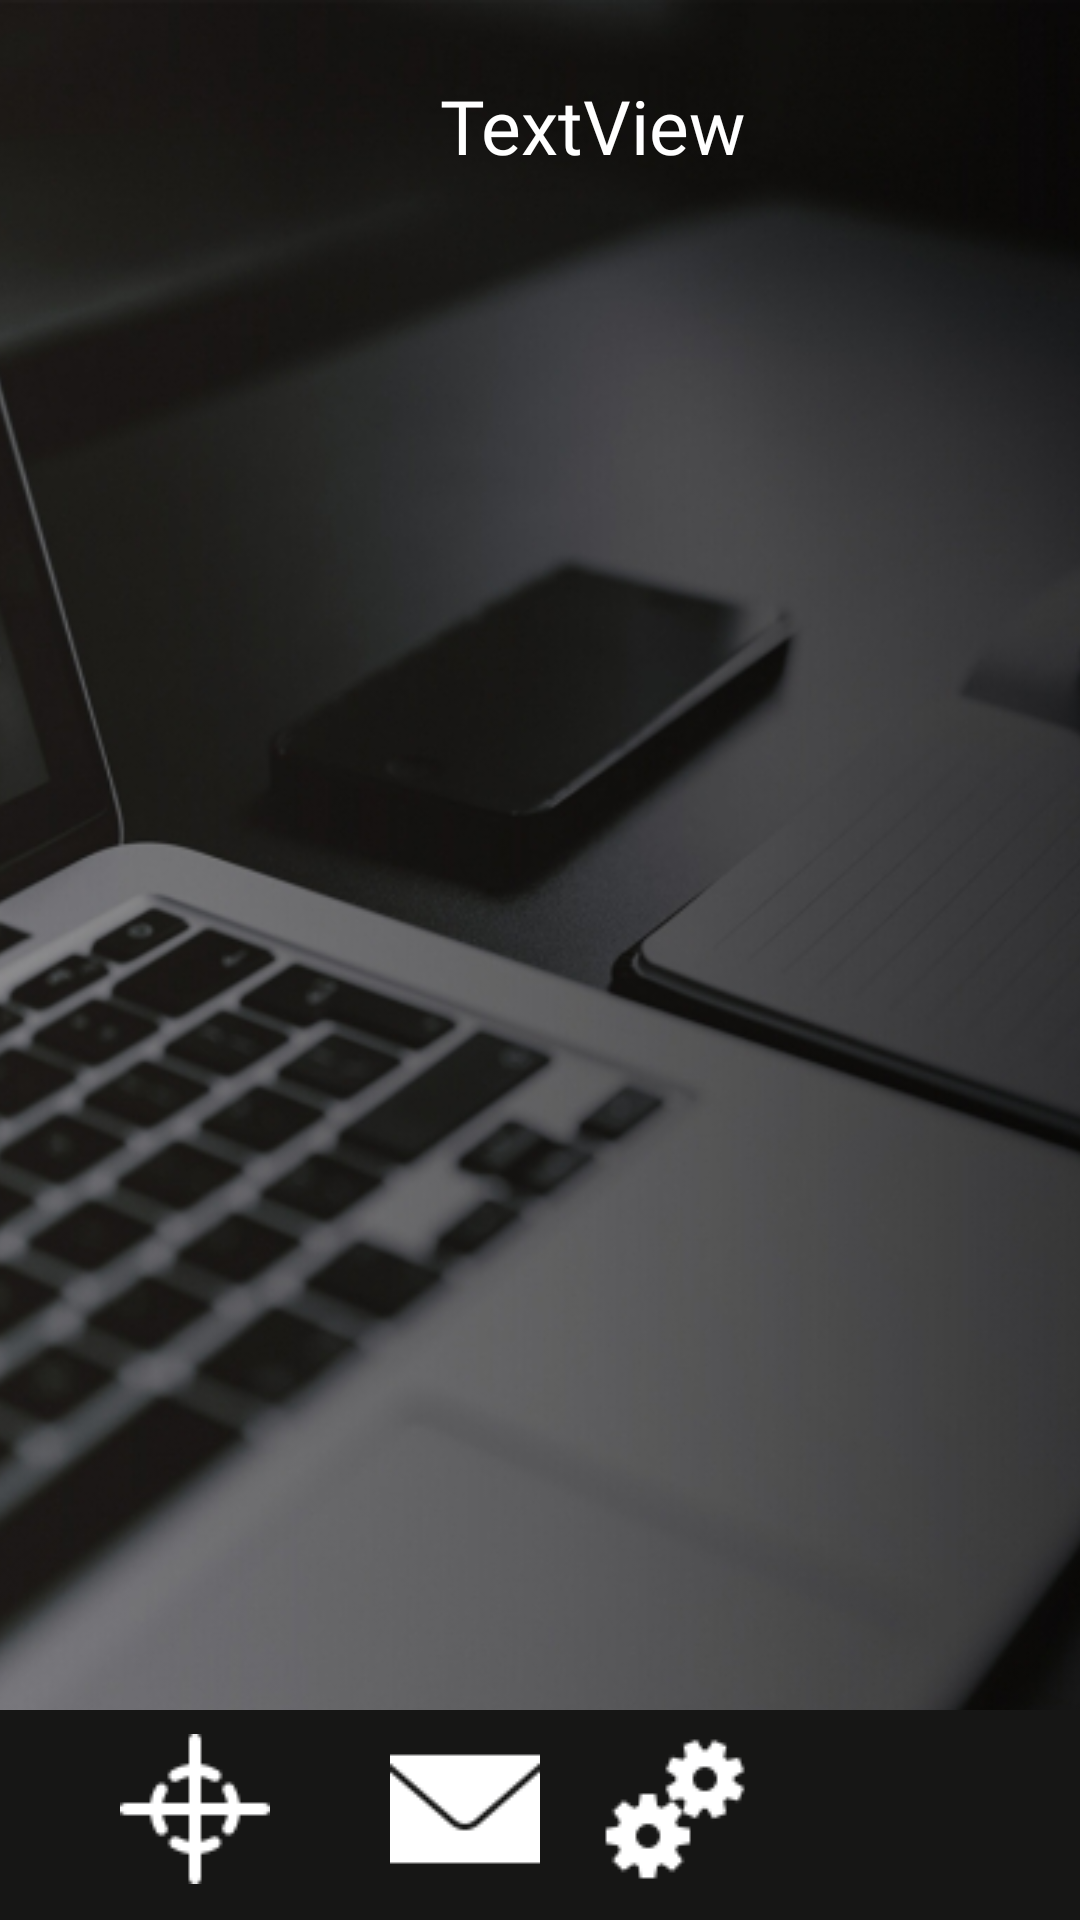

Named icons in this screenshot (1080px x 1920px) and their bounding boxes, (x1, y1, x2, y2):
message: (390, 1754, 540, 1864)
setting: (605, 1739, 745, 1879)
